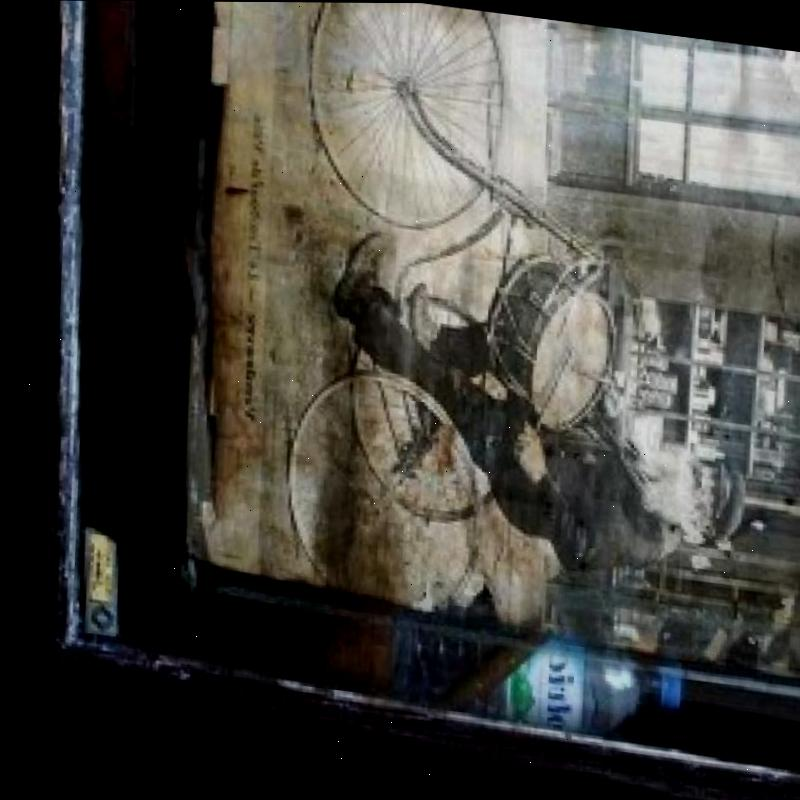botella: (345, 622, 681, 742)
